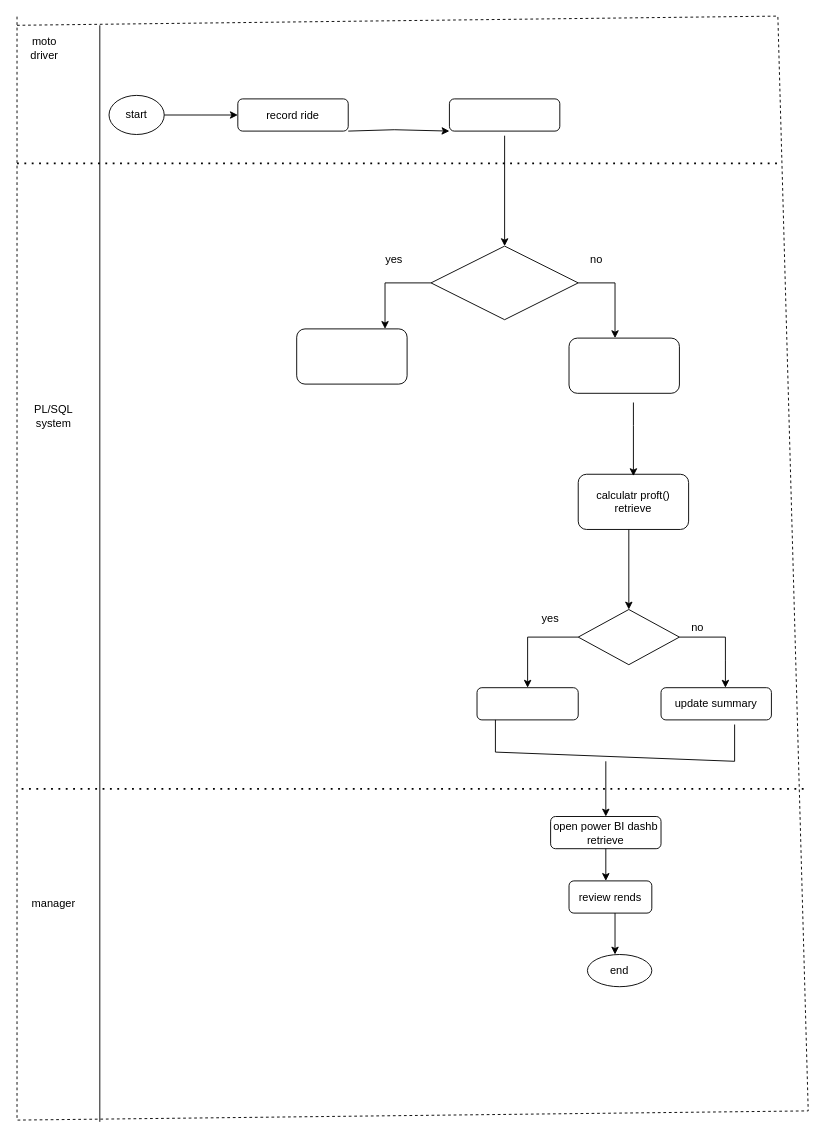
This 825x1139 diagram has some shape labels left out. Here are the shapes that lost their labels. From the top down, the box of each, then its label:
(448, 98, 560, 131): record fuel
(296, 328, 407, 384): block entry
(568, 337, 679, 393): save to db create
(476, 687, 578, 720): create alert
